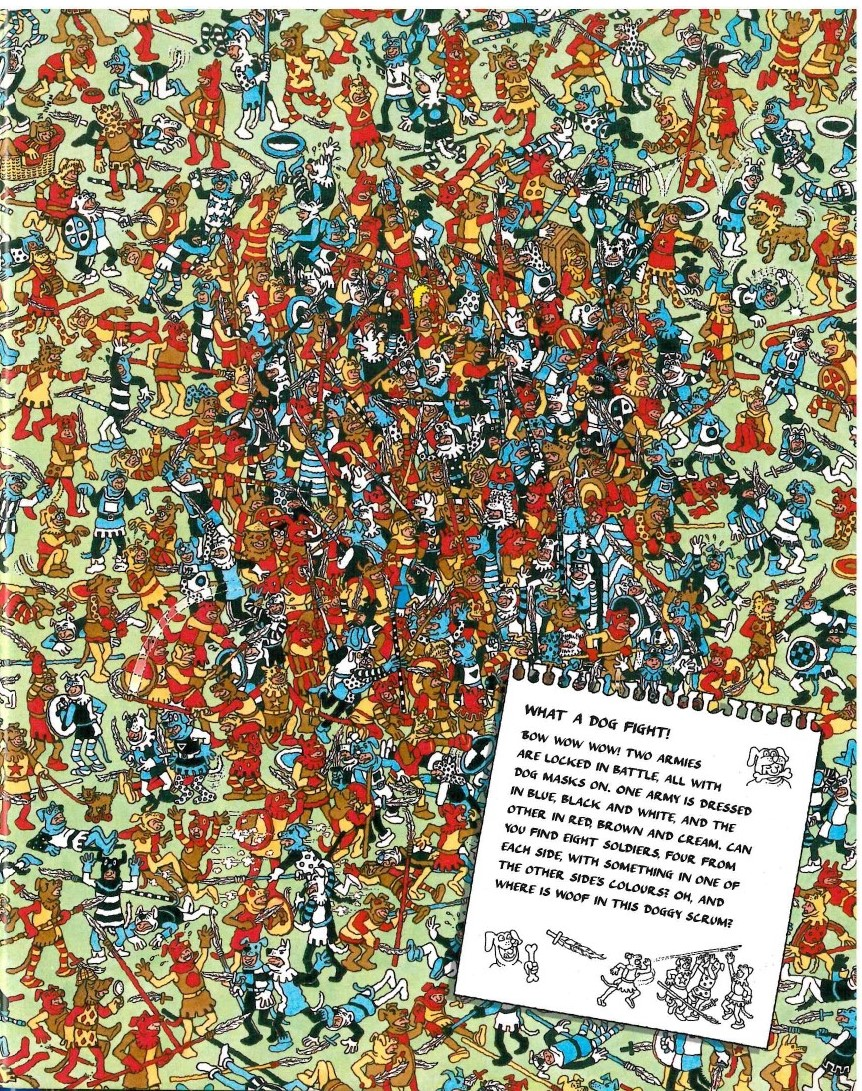waldos: (262, 518, 289, 557)
